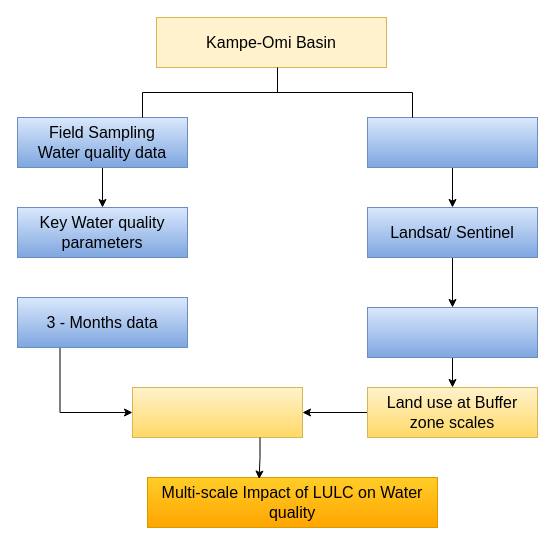
Some shapes in this 555 by 545 pixel diagram are drawn without their labels. The centre of each missing label's shape, as x and y in pixels:
LULC: (452,332)
Redundancy Analysis: (217,412)
Satellite Imagery: (452,142)
